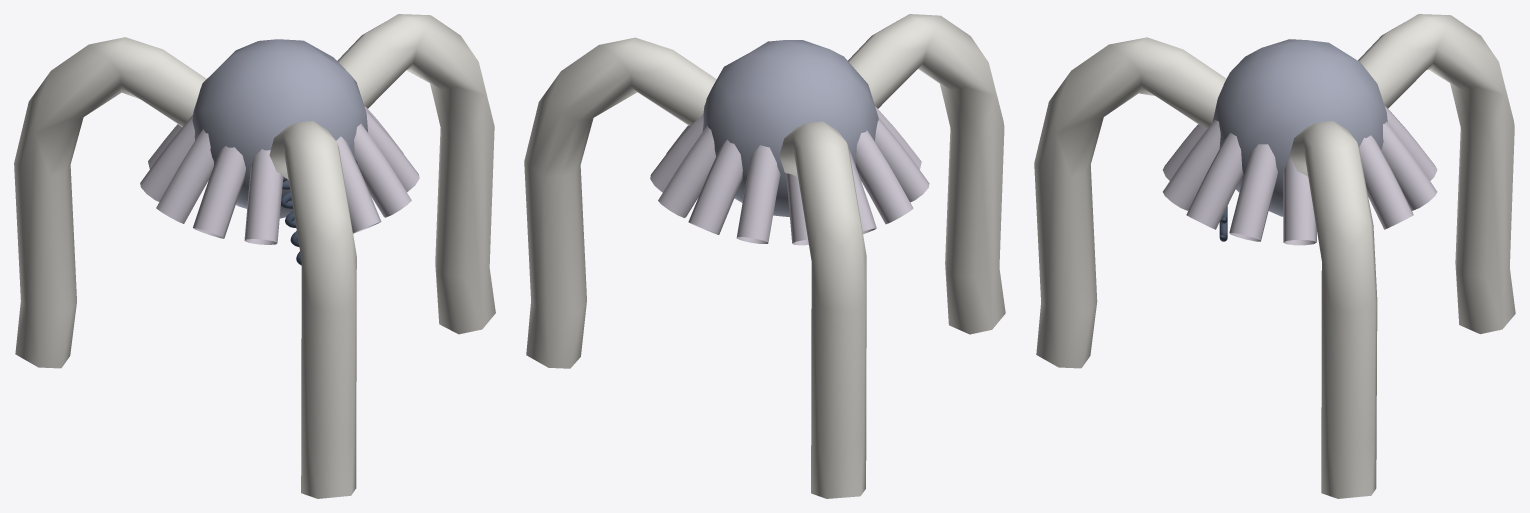
Rendered from bio_tripod_bell_09_far.glb.
3 views of the same model, side by side, from view 1: azimuth 30°, elevation 25°; view 2: azimuth 150°, elevation 25°; view 3: azimuth 270°, elevation 25° (orthographic).
Visible parts, largest first — view 1: Arched tripod.001, Arched tripod, Arched tripod.002, Hanging bell core, Flared rib.008, Flared rib.009, Flared rib.007, Flared rib.012, Flared rib.011, Flared rib.006, Flared rib.013, Underside pressure folds; view 2: Arched tripod, Arched tripod.002, Arched tripod.001, Hanging bell core, Flared rib.004, Flared rib.003, Flared rib.007, Flared rib.002, Flared rib.008, Flared rib.001, Flared rib.005, Flared rib.006; view 3: Arched tripod.002, Arched tripod.001, Arched tripod, Hanging bell core, Flared rib.013, Flared rib.012, Flared rib.002, Flared rib, Flared rib.011, Flared rib.003, Flared rib.004, Flared rib.010.
Part boxes in pixels (box(x1,y1,x2,y2)): Arched tripod.001: box(14, 37, 206, 368); Arched tripod: box(337, 14, 495, 334); Arched tripod.002: box(269, 121, 356, 498); Hanging bell core: box(192, 39, 367, 218); Flared rib.008: box(193, 146, 245, 238); Flared rib.009: box(244, 149, 283, 244); Flared rib.007: box(156, 129, 213, 223); Flared rib.012: box(354, 124, 411, 217); Flared rib.011: box(336, 136, 381, 233); Flared rib.006: box(140, 115, 194, 201); Flared rib.013: box(365, 108, 419, 191); Underside pressure folds: box(281, 158, 357, 265); Arched tripod: box(524, 37, 716, 368); Arched tripod.002: box(848, 14, 1005, 334); Arched tripod.001: box(779, 121, 866, 498); Hanging bell core: box(702, 40, 878, 217); Flared rib.004: box(736, 145, 780, 243); Flared rib.003: box(688, 139, 742, 234); Flared rib.007: box(855, 130, 913, 224); Flared rib.002: box(658, 125, 715, 217); Flared rib.008: box(875, 118, 929, 202); Flared rib.001: box(650, 113, 703, 192); Flared rib.005: box(786, 173, 808, 245); Flared rib.006: box(849, 149, 876, 234); Arched tripod.002: box(1034, 37, 1226, 368); Arched tripod.001: box(1358, 14, 1515, 334); Arched tripod: box(1289, 121, 1377, 498); Hanging bell core: box(1212, 39, 1387, 216); Flared rib.013: box(1229, 144, 1277, 241); Flared rib.012: box(1186, 133, 1243, 229); Flared rib.002: box(1359, 135, 1413, 229); Flared rib: box(1283, 158, 1316, 245); Flared rib.011: box(1163, 120, 1220, 210); Flared rib.003: box(1381, 121, 1437, 210); Flared rib.004: box(1384, 105, 1437, 180); Flared rib.010: box(1163, 124, 1207, 180).
Bounding box in the file's own units: 2.51 × 2.05 × 2.58.
